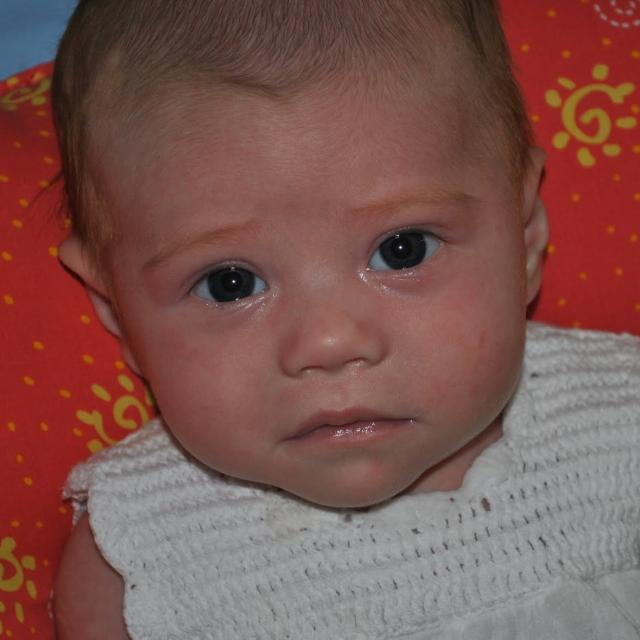Depress: (87, 18, 534, 516)
